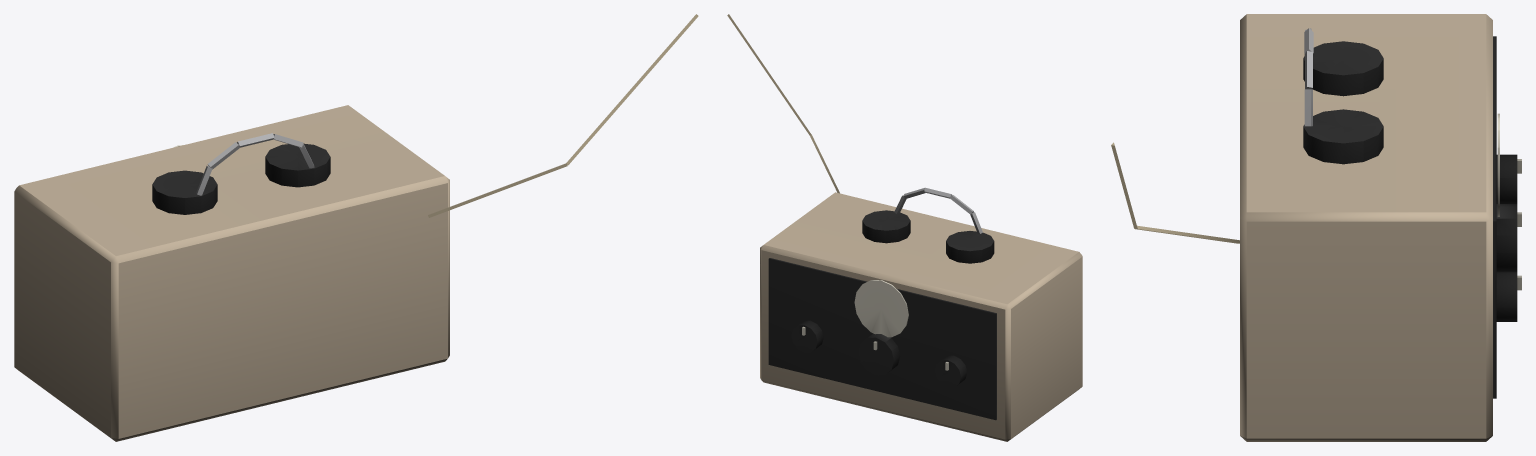
File: radio_set.glb
The picture shows the model from 3 angles, left to right: view 1: azimuth 30°, elevation 25°; view 2: azimuth 150°, elevation 25°; view 3: azimuth 270°, elevation 25°; orthographic projection. The views are drawn at different scales.
Visible parts, largest first — view 1: static; view 2: static; view 3: static.
Boxes of the visible parts, left/top/right/bottom form: static: left=14, top=14, right=698, bottom=441; static: left=727, top=14, right=1082, bottom=441; static: left=1111, top=14, right=1521, bottom=441.
Bounding box in the file's own units: 0.6611 × 0.4014 × 0.3569.
